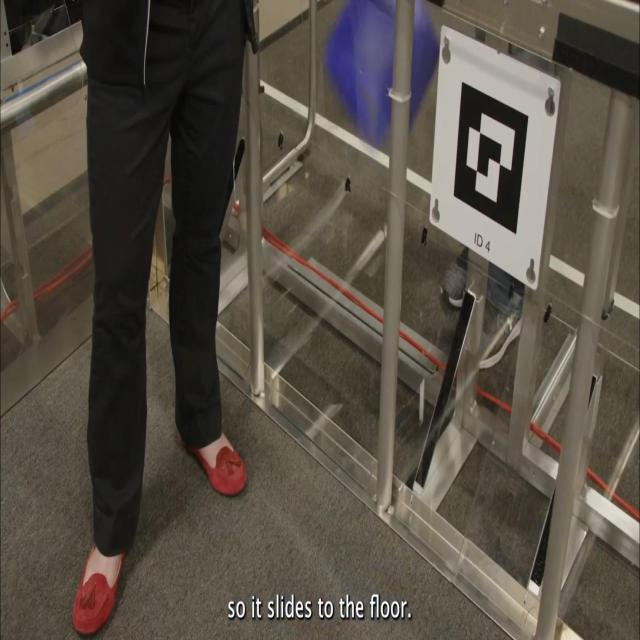frc_cube: (326, 0, 438, 144)
